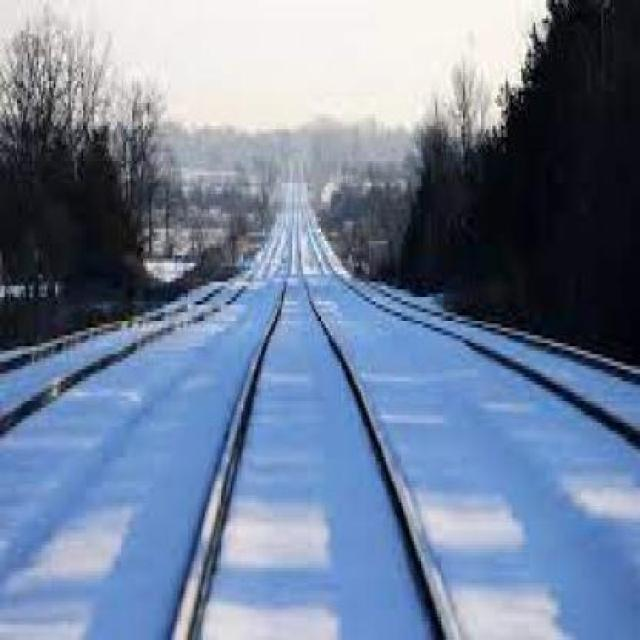rail: (2, 152, 637, 636)
